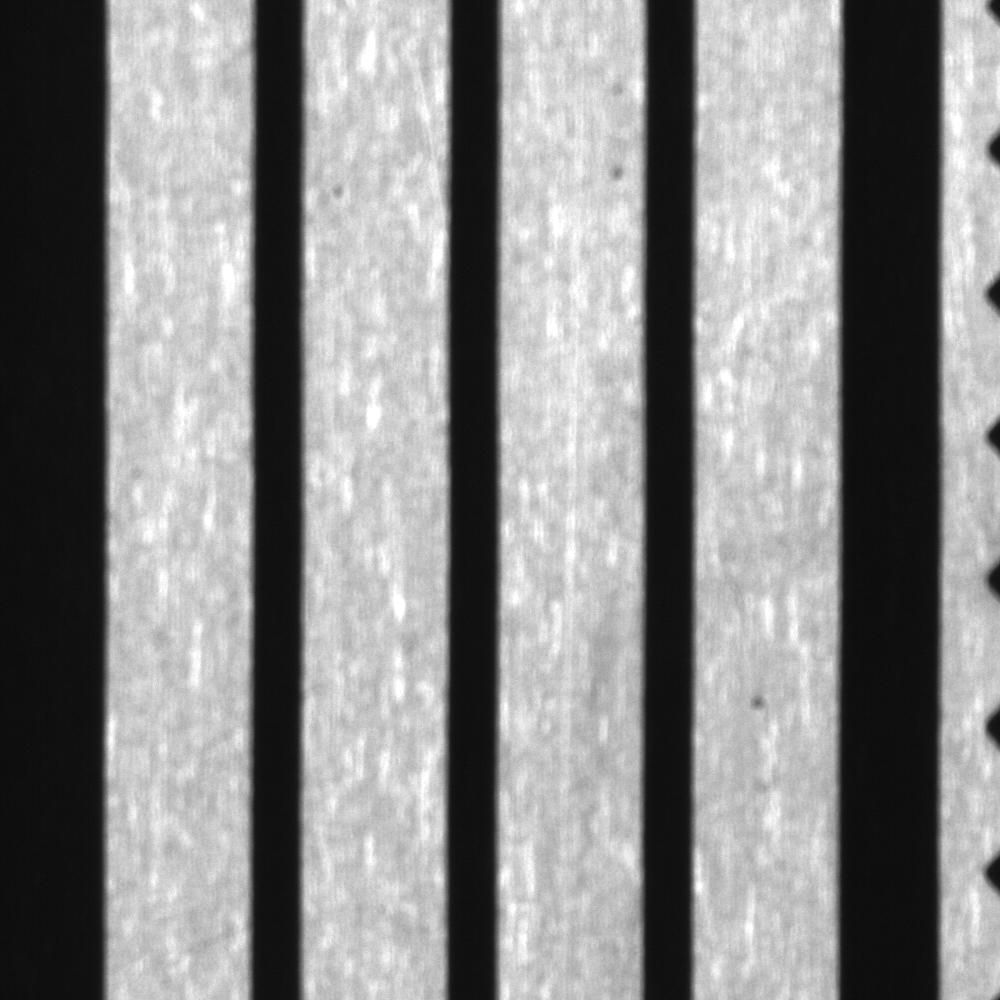Etching: (310, 164, 357, 215)
Pinhole: (594, 143, 636, 198), (736, 676, 780, 725)
Scar: (401, 29, 452, 244)
